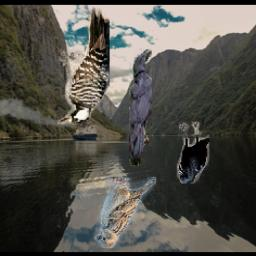Crow: (130, 50, 153, 167), (177, 122, 209, 184)
Sparrow: (95, 177, 157, 248)
Woodpecker: (57, 7, 110, 125)
